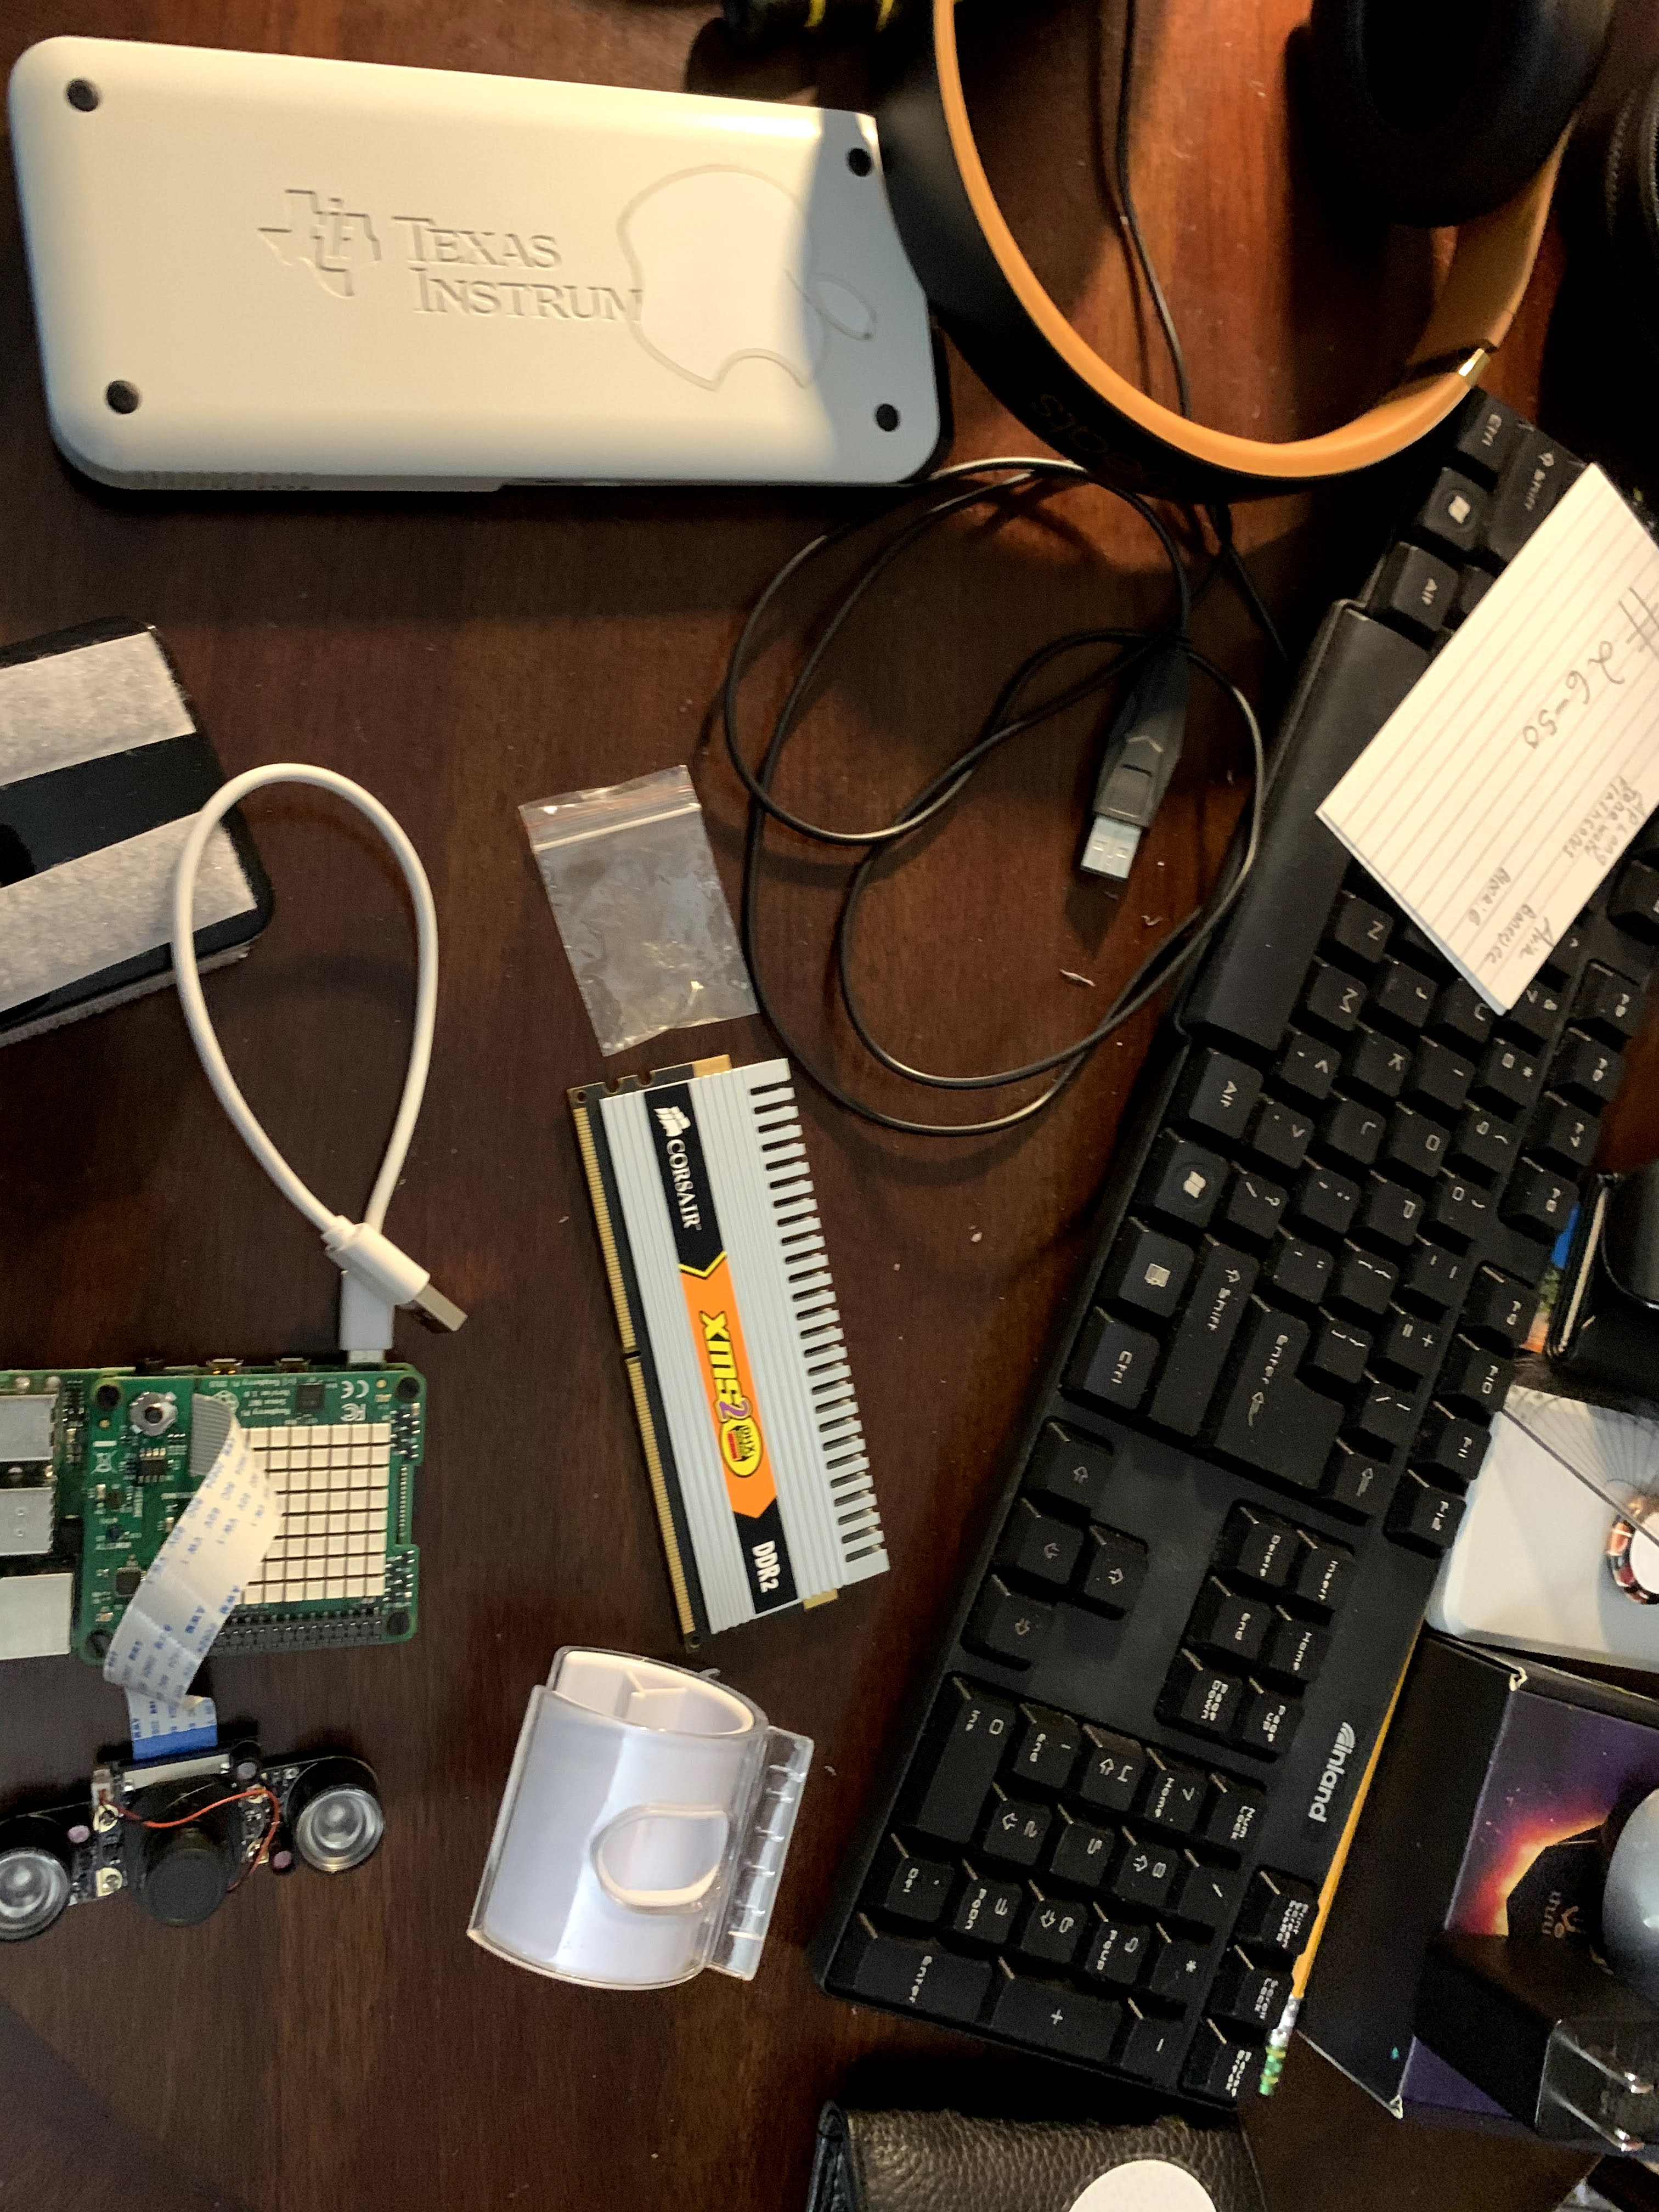Space-debris-medium: (554, 1042, 925, 1653)
